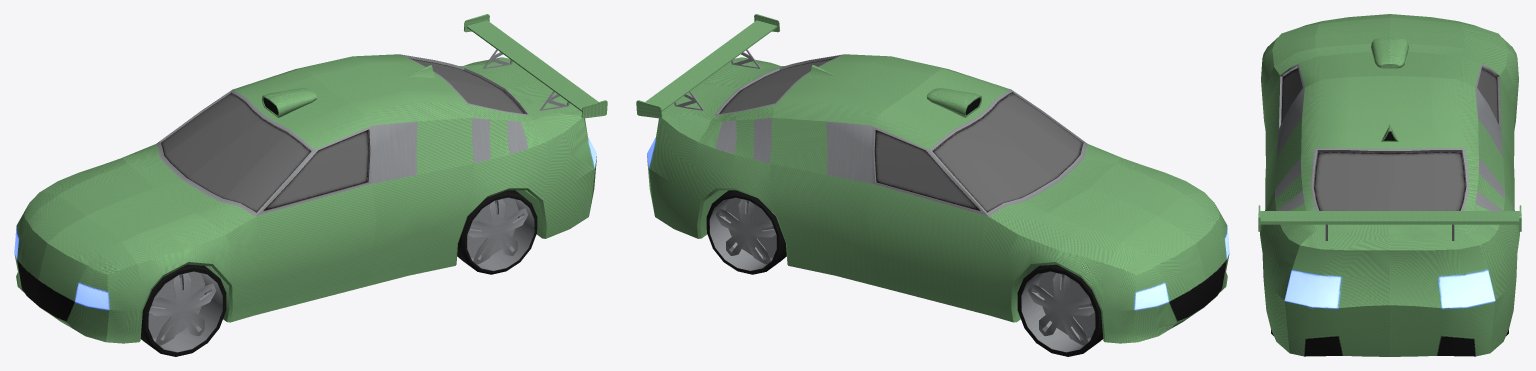
Rendered from street-racer.glb.
The picture shows the model from 3 angles, left to right: view 1: azimuth 30°, elevation 25°; view 2: azimuth 150°, elevation 25°; view 3: azimuth 270°, elevation 25°; orthographic projection. The views are drawn at different scales.
Parts seen in each view (by area): view 1: Object_2; view 2: Object_2; view 3: Object_2.
Part boxes in pixels (box(x1,y1,x2,y2)): Object_2: box(14, 14, 607, 356); Object_2: box(636, 14, 1229, 356); Object_2: box(1258, 14, 1521, 356).
Bounding box in the file's own units: 459 × 153 × 179.
1 material, 1 textured.
